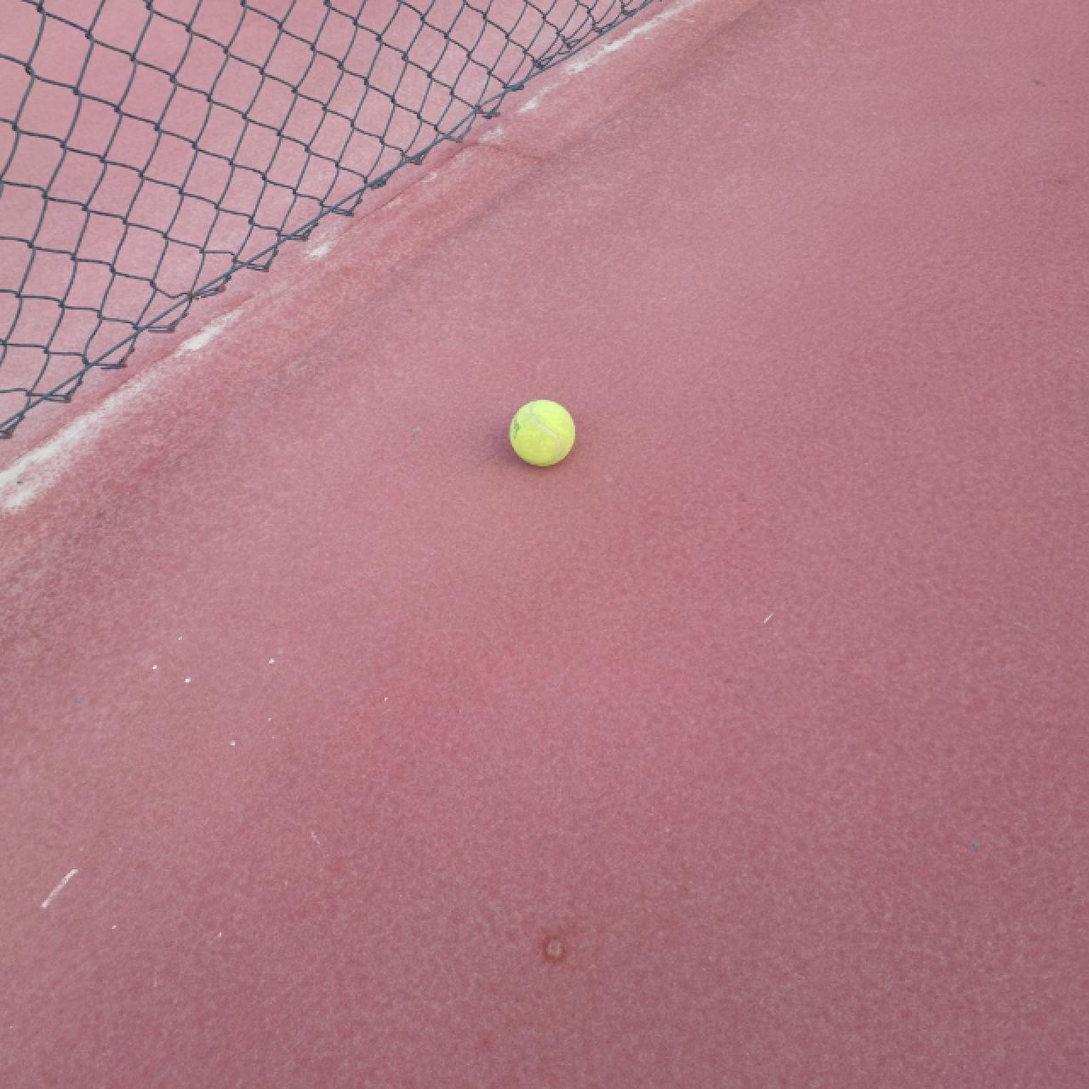tennis-ball: (507, 399, 577, 467)
